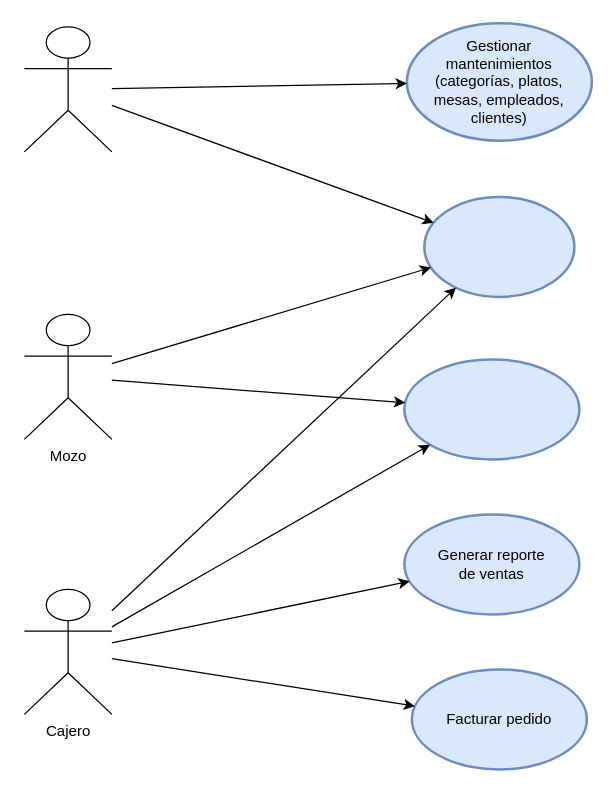
This 615x791 diagram has some shape labels left out. Each missing label, with the centre of its shape:
Administrador: point (67, 89)
Iniciar sesión: point (498, 246)
Registrar pedido: point (491, 409)
